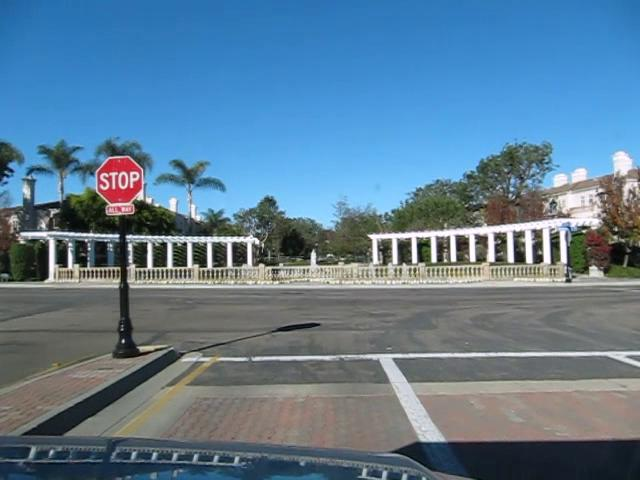stop: (95, 155, 143, 204)
